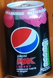pepsi: (5, 2, 51, 76)
